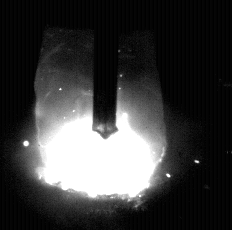arame: (93, 0, 117, 139)
poca: (36, 0, 167, 230)
